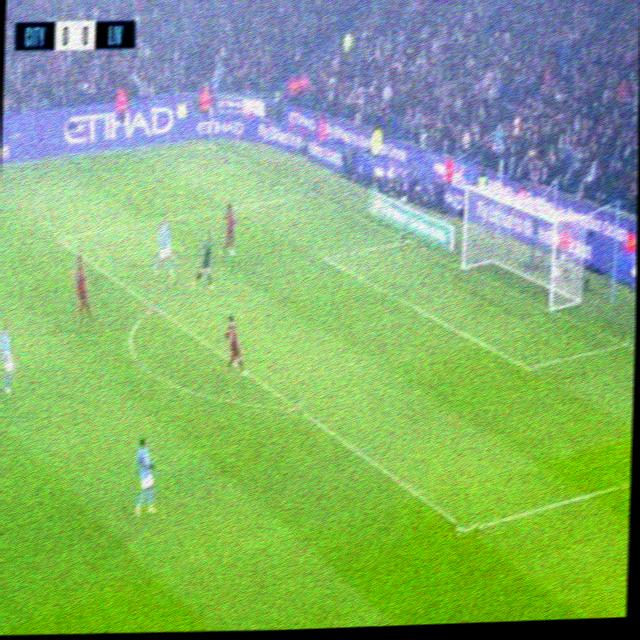bigarea_bottom_inner: (454, 512, 479, 548)
bigarea_top_inner: (49, 229, 64, 250)
bigarea_top_outter: (302, 182, 316, 203)
bottom_arc_area_intersection: (285, 391, 304, 421)
corner: (202, 140, 214, 149)
smallarea_bottom_inner: (516, 352, 538, 381)
smallarea_bottom_outter: (616, 332, 629, 354)
smallarea_top_inner: (316, 245, 334, 270)
smallarea_top_outter: (399, 230, 413, 251)
top_arc_area_intersection: (143, 295, 160, 320)
